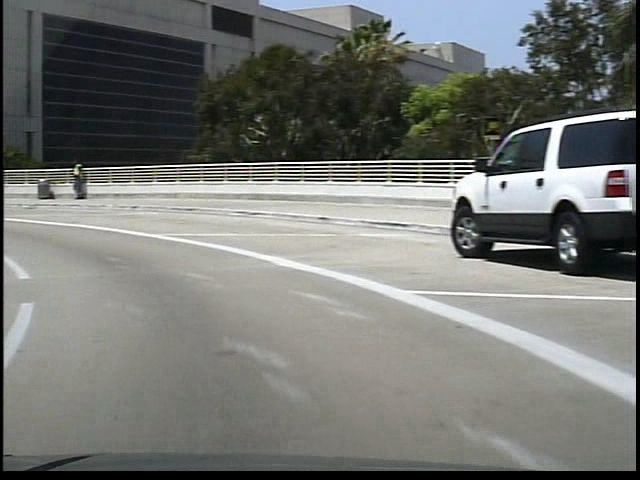person: (67, 154, 85, 199)
